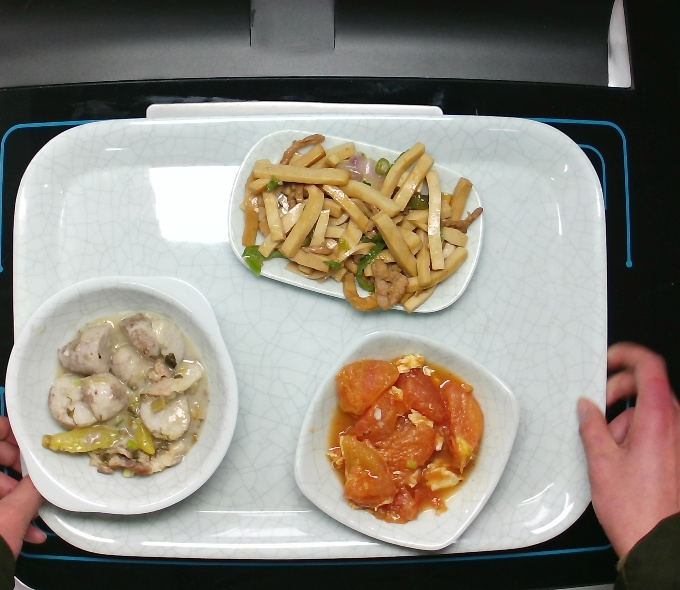wcq-FanQieChaoDan: (326, 348, 500, 531)
wcq-QianYeDouFu: (227, 123, 485, 320)
wcq-YangYu: (34, 298, 217, 496)
